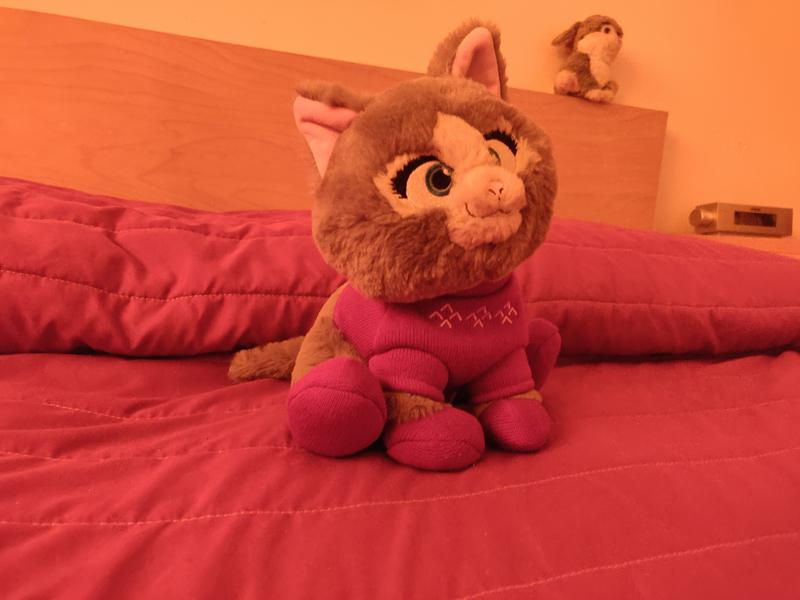kitten: (209, 1, 601, 475)
